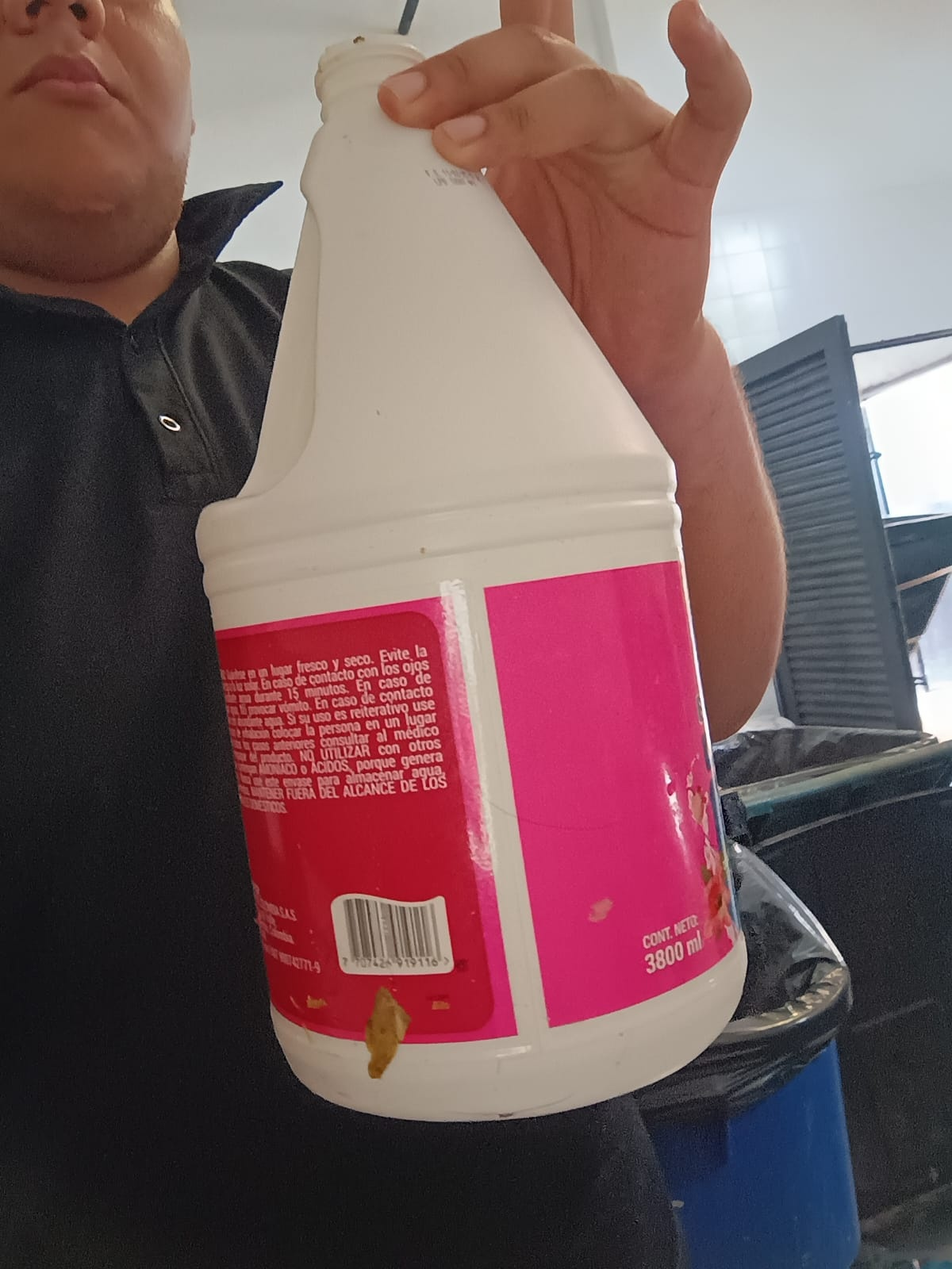Plastico: (195, 37, 747, 1122)
